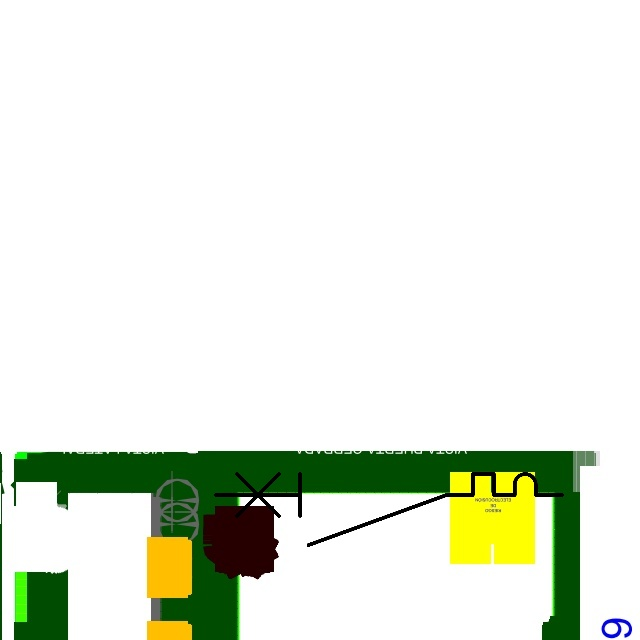interruptor_termomagnetico: (207, 465, 571, 554)
